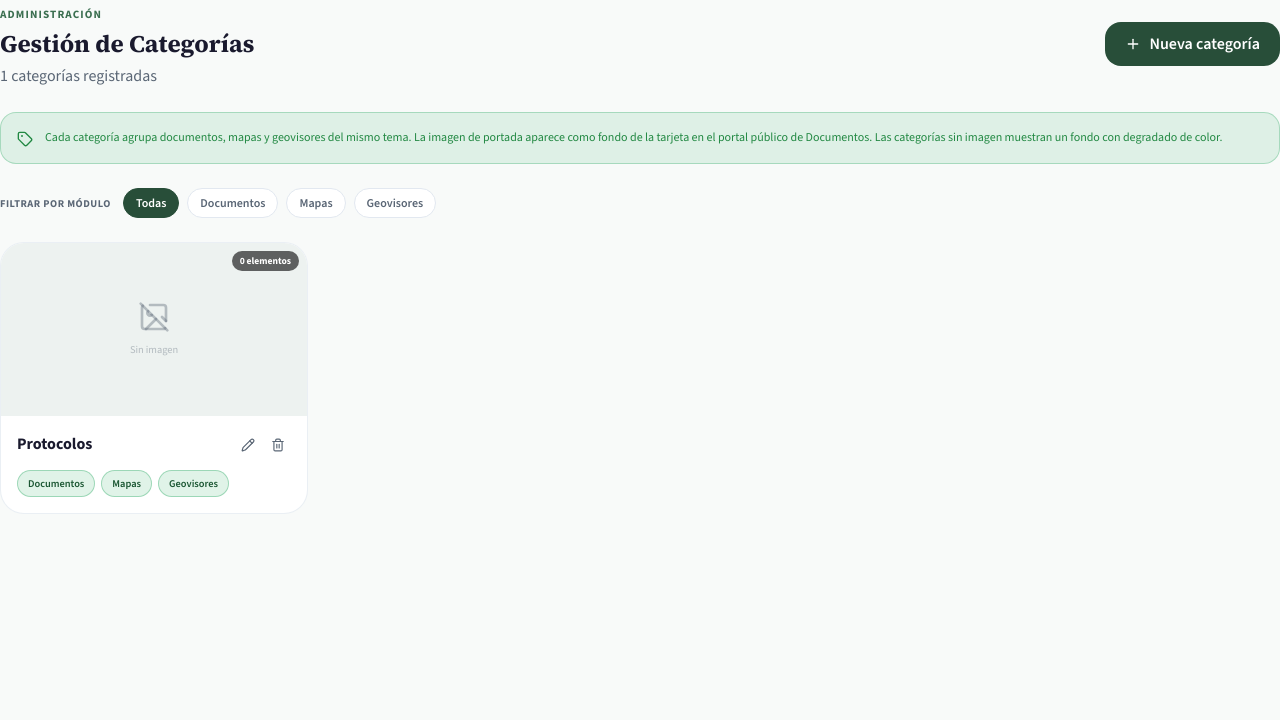
GestionCategorias — crear categoría › un error del servidor al crear muestra el mensaje sin cerrar el formulario
This screenshot has width=1280, height=720.
Click the button "Nueva categoría" at (1193, 44), box left=1106, top=22, right=1279, bottom=66
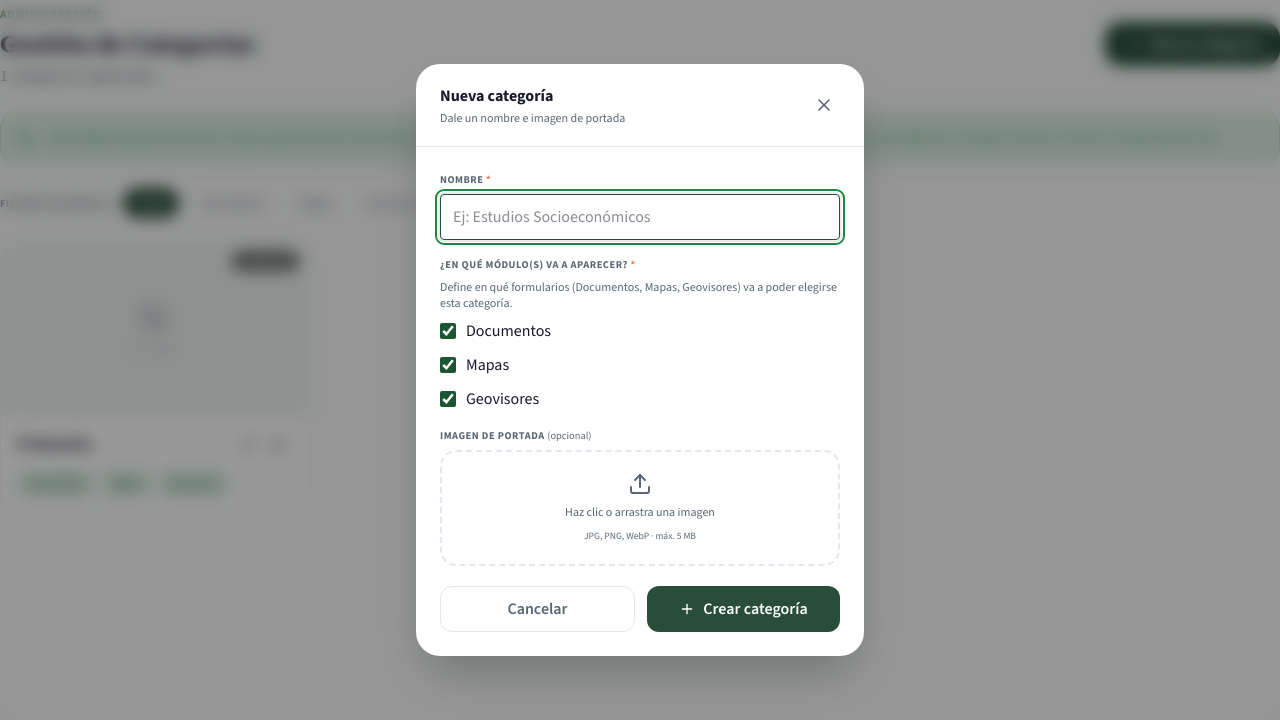
Type "Protocolos" into the field labelled "Nombre *" at (640, 217), box left=440, top=194, right=840, bottom=240
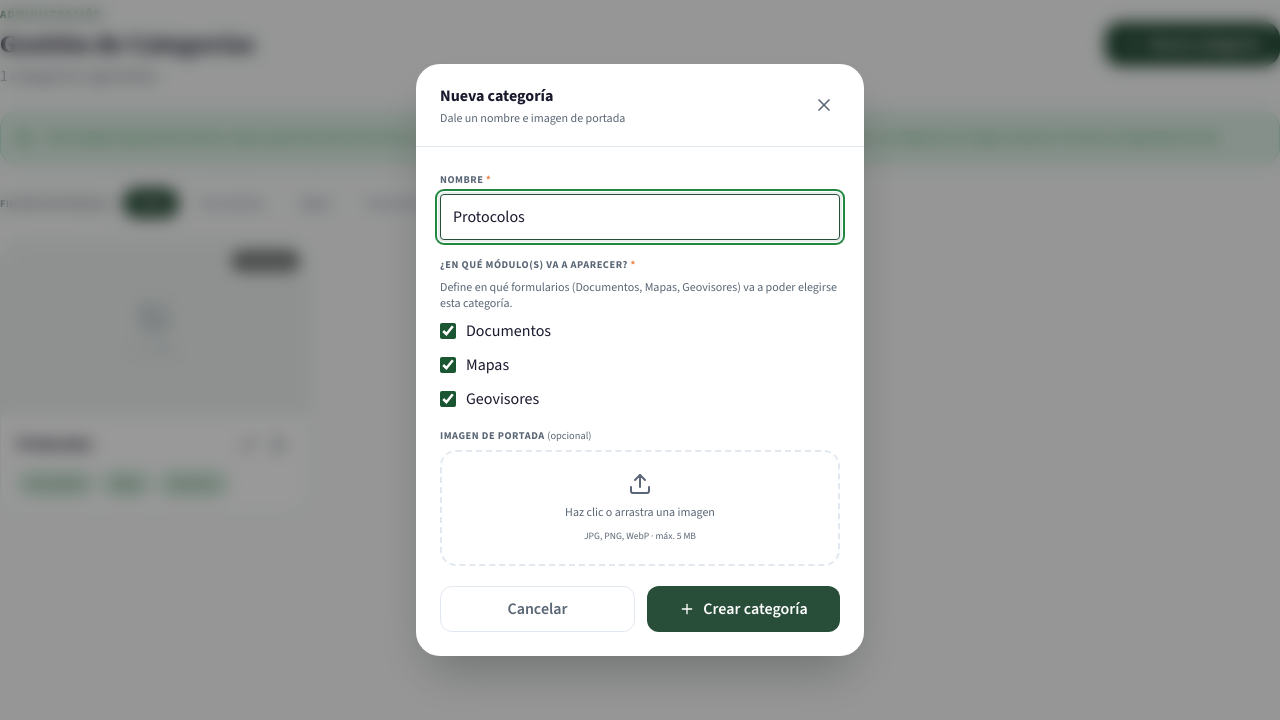
Click the button "Crear categoría" at (744, 609), box left=647, top=586, right=840, bottom=632
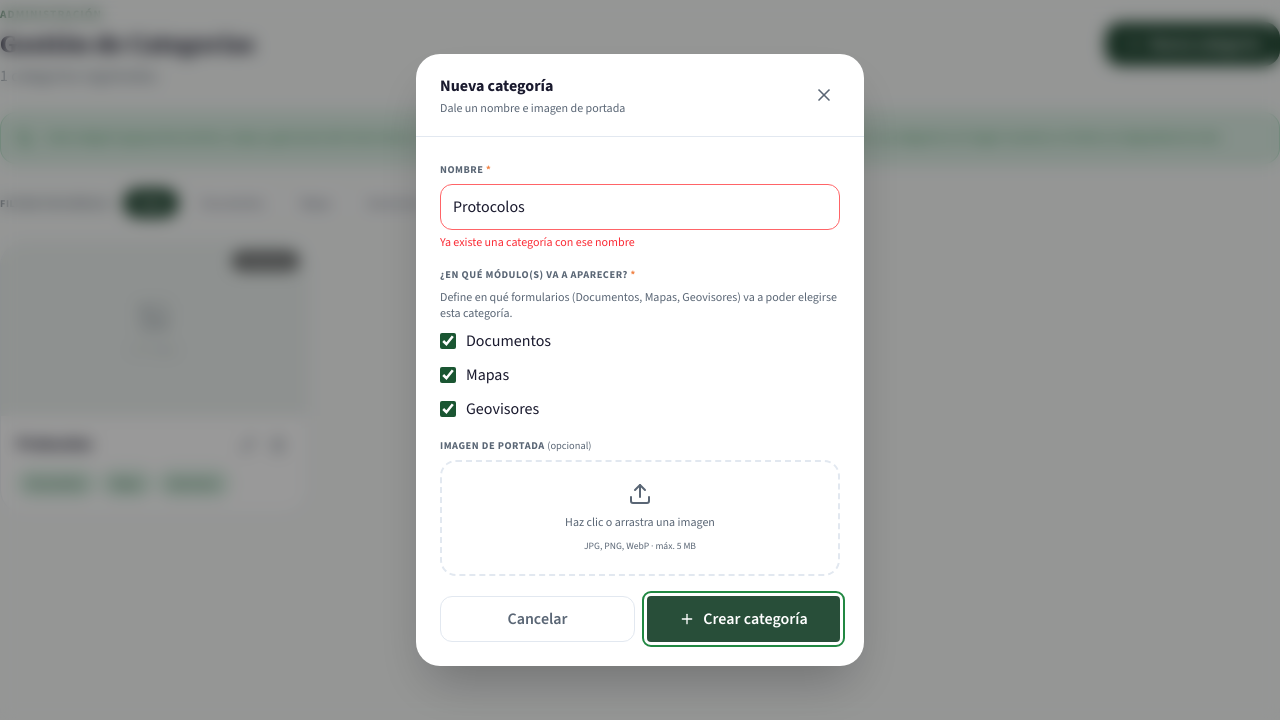
Expected: the text "Ya existe una categoría con ese nombre" is shown, left=440, top=234, right=635, bottom=250
